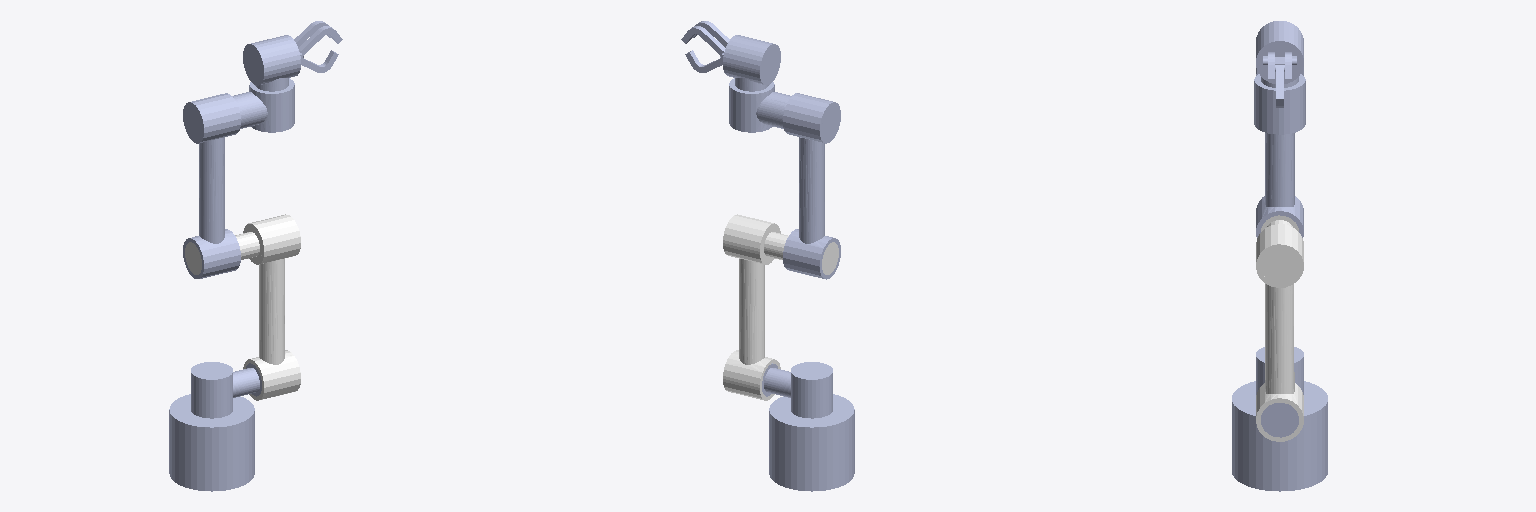
The robot description file, URDF, robot "robotarm DoF reduced":
<?xml version="1.0" encoding="utf-8"?>
<!-- This URDF was automatically created by SolidWorks to URDF Exporter! Originally created by [author] ([email redacted]) 
     Commit Version: 1.5.1-0-g916b5db  Build Version: 1.5.7152.31018
     For more information, please see http://wiki.ros.org/sw_urdf_exporter -->
<robot
  name="robotarm DoF reduced">
  <link
    name="link1">
    <inertial>
      <origin
        xyz="0 7.73940626185152E-18 0.0943086092715232"
        rpy="0 0 0" />
      <mass
        value="5.6925658883047" />
      <inertia
        ixx="0.0253978911460265"
        ixy="-5.19141599830795E-51"
        ixz="-8.47850573713574E-35"
        iyy="0.0253978911460265"
        iyz="5.84007442267779E-20"
        izz="0.0263516791783112" />
    </inertial>
    <visual>
      <origin
        xyz="0 0 0"
        rpy="0 0 0" />
      <geometry>
        <mesh
          filename="package://robotarm DoF reduced/meshes/link1.STL" />
      </geometry>
      <material
        name="">
        <color
          rgba="0.792156862745098 0.819607843137255 0.933333333333333 1" />
      </material>
    </visual>
    <collision>
      <origin
        xyz="0 0 0"
        rpy="0 0 0" />
      <geometry>
        <mesh
          filename="package://robotarm DoF reduced/meshes/link1.STL" />
      </geometry>
    </collision>
  </link>
  <link
    name="link2">
    <inertial>
      <origin
        xyz="0.0994051462871014 -4.39507041871678E-11 1.61421868932957E-08"
        rpy="0 0 0" />
      <mass
        value="0.968515917956123" />
      <inertia
        ixx="0.00101098741855169"
        ixy="-4.24067273865609E-12"
        ixz="8.95948128514241E-11"
        iyy="0.00130687061897204"
        iyz="3.92629041664754E-10"
        izz="0.00125061992464247" />
    </inertial>
    <visual>
      <origin
        xyz="0 0 0"
        rpy="0 0 0" />
      <geometry>
        <mesh
          filename="package://robotarm DoF reduced/meshes/link2.STL" />
      </geometry>
      <material
        name="">
        <color
          rgba="0.792156862745098 0.819607843137255 0.933333333333333 1" />
      </material>
    </visual>
    <collision>
      <origin
        xyz="0 0 0"
        rpy="0 0 0" />
      <geometry>
        <mesh
          filename="package://robotarm DoF reduced/meshes/link2.STL" />
      </geometry>
    </collision>
  </link>
  <joint
    name="joint1to2"
    type="continuous">
    <origin
      xyz="0 0 0.2152"
      rpy="1.5707963267949 0 0" />
    <parent
      link="link1" />
    <child
      link="link2" />
    <axis
      xyz="0 1 0" />
    <limit
      lower="0"
      upper="0"
      effort="0"
      velocity="0" />
  </joint>
  <link
    name="link3">
    <inertial>
      <origin
        xyz="-1.63143103748542E-08 0.1755 2.64244421609409E-07"
        rpy="0 0 0" />
      <mass
        value="1.28853409511538" />
      <inertia
        ixx="0.022686909508374"
        ixy="5.64445715793553E-19"
        ixz="3.22100359901118E-09"
        iyy="0.00137829240474618"
        iyz="-3.00514315005634E-19"
        izz="0.0225743861223479" />
    </inertial>
    <visual>
      <origin
        xyz="0 0 0"
        rpy="0 0 0" />
      <geometry>
        <mesh
          filename="package://robotarm DoF reduced/meshes/link3.STL" />
      </geometry>
      <material
        name="">
        <color
          rgba="1 1 1 1" />
      </material>
    </visual>
    <collision>
      <origin
        xyz="0 0 0"
        rpy="0 0 0" />
      <geometry>
        <mesh
          filename="package://robotarm DoF reduced/meshes/link3.STL" />
      </geometry>
    </collision>
  </link>
  <joint
    name="joint2to3"
    type="continuous">
    <origin
      xyz="0.1624 0 0"
      rpy="0 0 0" />
    <parent
      link="link2" />
    <child
      link="link3" />
    <axis
      xyz="1 0 0" />
    <limit
      lower="0"
      upper="0"
      effort="0"
      velocity="0" />
  </joint>
  <link
    name="link4">
    <inertial>
      <origin
        xyz="-0.0812000000000019 -5.55111512312578E-17 5.55111512312578E-17"
        rpy="0 0 0" />
      <mass
        value="1.18174149257434" />
      <inertia
        ixx="0.000883642048860509"
        ixy="-8.15922236383845E-36"
        ixz="1.23844183607777E-35"
        iyy="0.00796527652302551"
        iyz="8.67361737988404E-19"
        izz="0.00796527652302551" />
    </inertial>
    <visual>
      <origin
        xyz="0 0 0"
        rpy="0 0 0" />
      <geometry>
        <mesh
          filename="package://robotarm DoF reduced/meshes/link4.STL" />
      </geometry>
      <material
        name="">
        <color
          rgba="1 1 1 1" />
      </material>
    </visual>
    <collision>
      <origin
        xyz="0 0 0"
        rpy="0 0 0" />
      <geometry>
        <mesh
          filename="package://robotarm DoF reduced/meshes/link4.STL" />
      </geometry>
    </collision>
  </link>
  <joint
    name="joint3to4"
    type="continuous">
    <origin
      xyz="0 0.351 0"
      rpy="0.796342375970697 0 0" />
    <parent
      link="link3" />
    <child
      link="link4" />
    <axis
      xyz="1 0 0" />
    <limit
      lower="0"
      upper="0"
      effort="0"
      velocity="0" />
  </joint>
  <link
    name="link5">
    <inertial>
      <origin
        xyz="1.15137702988831E-08 -0.175599997418416 2.25121599863398E-07"
        rpy="0 0 0" />
      <mass
        value="1.28909961850142" />
      <inertia
        ixx="0.0227161468686484"
        ixy="6.51842272834614E-10"
        ixz="-3.22480744280282E-09"
        iyy="0.00137854681548726"
        iyz="5.50711970014189E-09"
        izz="0.022603623568969" />
    </inertial>
    <visual>
      <origin
        xyz="0 0 0"
        rpy="0 0 0" />
      <geometry>
        <mesh
          filename="package://robotarm DoF reduced/meshes/link5.STL" />
      </geometry>
      <material
        name="">
        <color
          rgba="0.792156862745098 0.819607843137255 0.933333333333333 1" />
      </material>
    </visual>
    <collision>
      <origin
        xyz="0 0 0"
        rpy="0 0 0" />
      <geometry>
        <mesh
          filename="package://robotarm DoF reduced/meshes/link5.STL" />
      </geometry>
    </collision>
  </link>
  <joint
    name="joint4to5"
    type="continuous">
    <origin
      xyz="-0.1624 0.245603242745675 -0.251038816028137"
      rpy="-0.796342375970697 0 0" />
    <parent
      link="link4" />
    <child
      link="link5" />
    <axis
      xyz="1 0 0" />
    <limit
      lower="0"
      upper="0"
      effort="0"
      velocity="0" />
  </joint>
  <link
    name="link6">
    <inertial>
      <origin
        xyz="-0.0889221693652386 9.19930298604044E-09 9.67011043676775E-08"
        rpy="0 0 0" />
      <mass
        value="1.20648390273837" />
      <inertia
        ixx="0.00141049786190329"
        ixy="-4.78535096826722E-12"
        ixz="-1.50596997323671E-10"
        iyy="0.00750318533563848"
        iyz="-2.22975998606996E-10"
        izz="0.00738627403646385" />
    </inertial>
    <visual>
      <origin
        xyz="0 0 0"
        rpy="0 0 0" />
      <geometry>
        <mesh
          filename="package://robotarm DoF reduced/meshes/link6.STL" />
      </geometry>
      <material
        name="">
        <color
          rgba="0.792156862745098 0.819607843137255 0.933333333333333 1" />
      </material>
    </visual>
    <collision>
      <origin
        xyz="0 0 0"
        rpy="0 0 0" />
      <geometry>
        <mesh
          filename="package://robotarm DoF reduced/meshes/link6.STL" />
      </geometry>
    </collision>
  </link>
  <joint
    name="joint5to6"
    type="continuous">
    <origin
      xyz="0.162399999999994 0 0"
      rpy="0 0 0" />
    <parent
      link="link5" />
    <child
      link="link6" />
    <axis
      xyz="1 0 0" />
    <limit
      lower="0"
      upper="0"
      effort="0"
      velocity="0" />
  </joint>
  <link
    name="link7">
    <inertial>
      <origin
        xyz="-4.94980884613305E-08 -0.0701300869037302 -6.31668961434475E-08"
        rpy="0 0 0" />
      <mass
        value="0.869909136744433" />
      <inertia
        ixx="0.00355831006646369"
        ixy="-3.18908705115779E-12"
        ixz="2.62810393495205E-10"
        iyy="0.0010013970608803"
        iyz="1.20370999840181E-10"
        izz="0.0034916422873186" />
    </inertial>
    <visual>
      <origin
        xyz="0 0 0"
        rpy="0 0 0" />
      <geometry>
        <mesh
          filename="package://robotarm DoF reduced/meshes/link7.STL" />
      </geometry>
      <material
        name="">
        <color
          rgba="0.792156862745098 0.819607843137255 0.933333333333333 1" />
      </material>
    </visual>
    <collision>
      <origin
        xyz="0 0 0"
        rpy="0 0 0" />
      <geometry>
        <mesh
          filename="package://robotarm DoF reduced/meshes/link7.STL" />
      </geometry>
    </collision>
  </link>
  <joint
    name="joint6to7"
    type="continuous">
    <origin
      xyz="0 0.112399999999999 0"
      rpy="0 0 0" />
    <parent
      link="link6" />
    <child
      link="link7" />
    <axis
      xyz="0 1 0" />
    <limit
      lower="0"
      upper="0"
      effort="0"
      velocity="0" />
  </joint>
  <link
    name="link8">
    <inertial>
      <origin
        xyz="0.000716655966193691 6.66133814775094E-16 -1.3162597755277E-14"
        rpy="0 0 0" />
      <mass
        value="0.509047523656065" />
      <inertia
        ixx="0.000402319698175284"
        ixy="-9.86782811696418E-21"
        ixz="-5.52808059481805E-22"
        iyy="0.000620169294447699"
        iyz="1.27626649220071E-21"
        izz="0.000620258587978795" />
    </inertial>
    <visual>
      <origin
        xyz="0 0 0"
        rpy="0 0 0" />
      <geometry>
        <mesh
          filename="package://robotarm DoF reduced/meshes/link8.STL" />
      </geometry>
      <material
        name="">
        <color
          rgba="0.792156862745098 0.819607843137255 0.933333333333333 1" />
      </material>
    </visual>
    <collision>
      <origin
        xyz="0 0 0"
        rpy="0 0 0" />
      <geometry>
        <mesh
          filename="package://robotarm DoF reduced/meshes/link8.STL" />
      </geometry>
    </collision>
  </link>
  <joint
    name="joint7to8"
    type="continuous">
    <origin
      xyz="0 0 0"
      rpy="0 0 0" />
    <parent
      link="link7" />
    <child
      link="link8" />
    <axis
      xyz="1 0 0" />
  </joint>
  <link
    name="catcher_upper">
    <inertial>
      <origin
        xyz="0.0556098312131404 -1.26899446914736E-06 -0.00870275562544032"
        rpy="0 0 0" />
      <mass
        value="0.0721393119023469" />
      <inertia
        ixx="4.01563504909627E-05"
        ixy="6.84080453626861E-10"
        ixz="2.60311513377678E-05"
        iyy="0.000115493336932486"
        iyz="-1.09173285538598E-10"
        izz="0.00012127710274644" />
    </inertial>
    <visual>
      <origin
        xyz="0 0 0"
        rpy="0 0 0" />
      <geometry>
        <mesh
          filename="package://robotarm DoF reduced/meshes/catcher_upper.STL" />
      </geometry>
      <material
        name="">
        <color
          rgba="0.792156862745098 0.819607843137255 0.933333333333333 1" />
      </material>
    </visual>
    <collision>
      <origin
        xyz="0 0 0"
        rpy="0 0 0" />
      <geometry>
        <mesh
          filename="package://robotarm DoF reduced/meshes/catcher_upper.STL" />
      </geometry>
    </collision>
  </link>
  <joint
    name="joint_upper"
    type="continuous">
    <origin
      xyz="0.0600000000000122 0.00750000000000006 0"
      rpy="-1.5707963267949 0 0.587861786994452" />
    <parent
      link="link8" />
    <child
      link="catcher_upper" />
    <axis
      xyz="0 1 0" />
    <limit
      lower="0"
      upper="0"
      effort="0"
      velocity="0" />
  </joint>
  <link
    name="catcher_lower">
    <inertial>
      <origin
        xyz="0.058052308197946 -1.30847339457867E-14 -0.00910627395655916"
        rpy="0 0 0" />
      <mass
        value="0.0344733076025474" />
      <inertia
        ixx="9.30676907422708E-06"
        ixy="3.11985804302835E-21"
        ixz="1.22495716377413E-05"
        iyy="5.29028118093175E-05"
        iyz="-6.79546573512344E-22"
        izz="4.53469406988345E-05" />
    </inertial>
    <visual>
      <origin
        xyz="0 0 0"
        rpy="0 0 0" />
      <geometry>
        <mesh
          filename="package://robotarm DoF reduced/meshes/catcher_lower.STL" />
      </geometry>
      <material
        name="">
        <color
          rgba="0.792156862745098 0.819607843137255 0.933333333333333 1" />
      </material>
    </visual>
    <collision>
      <origin
        xyz="0 0 0"
        rpy="0 0 0" />
      <geometry>
        <mesh
          filename="package://robotarm DoF reduced/meshes/catcher_lower.STL" />
      </geometry>
    </collision>
  </link>
  <joint
    name="joint_lower"
    type="continuous">
    <origin
      xyz="0.0600000000000061 -0.00750000000000006 0"
      rpy="1.5707963267949 0 -0.602113242360167" />
    <parent
      link="link8" />
    <child
      link="catcher_lower" />
    <axis
      xyz="0 1 0" />
    <limit
      lower="0"
      upper="0"
      effort="0"
      velocity="0" />
  </joint>
</robot>

--- What the picture shows (computed from the rendered views, not written in the file) ---
Views: 3 orthographic renders of the robot side by side, from view 1: azimuth 30°, elevation 25°; view 2: azimuth 150°, elevation 25°; view 3: azimuth 270°, elevation 25°.
Model robotarm DoF reduced with 10 links and 9 joints (9 continuous), rooted at link1, posed all joints at 0.
Links seen in each view (by area): view 1: link1, link5, link3, link6, link2, link7, link4, catcher_upper; view 2: link1, link5, link3, link6, link2, link7, link4, catcher_upper; view 3: link1, link3, link5, link6, link2, link7, link4.
Link boxes in pixels (left/top/right/bottom): link1: left=169, top=364, right=254, bottom=491; link5: left=183, top=93, right=240, bottom=278; link3: left=243, top=214, right=300, bottom=400; link6: left=185, top=78, right=294, bottom=138; link2: left=191, top=362, right=261, bottom=418; link7: left=243, top=35, right=300, bottom=91; link4: left=185, top=228, right=261, bottom=274; catcher_upper: left=294, top=21, right=342, bottom=58; link1: left=769, top=364, right=854, bottom=491; link5: left=783, top=93, right=840, bottom=279; link3: left=723, top=214, right=780, bottom=400; link6: left=729, top=78, right=838, bottom=138; link2: left=762, top=362, right=832, bottom=418; link7: left=723, top=35, right=780, bottom=91; link4: left=762, top=228, right=838, bottom=274; catcher_upper: left=681, top=21, right=729, bottom=58; link1: left=1232, top=349, right=1327, bottom=491; link3: left=1256, top=224, right=1303, bottom=441; link5: left=1256, top=67, right=1303, bottom=237; link6: left=1254, top=74, right=1305, bottom=134; link2: left=1256, top=347, right=1303, bottom=437; link7: left=1256, top=21, right=1303, bottom=87; link4: left=1261, top=215, right=1298, bottom=283.
Bounding box of the posed robot: 0.4389 × 0.2 × 1.09 m (x, y, z).
Meshes: 10 distinct files referenced, 10 mesh visuals loaded (10 binary STL).